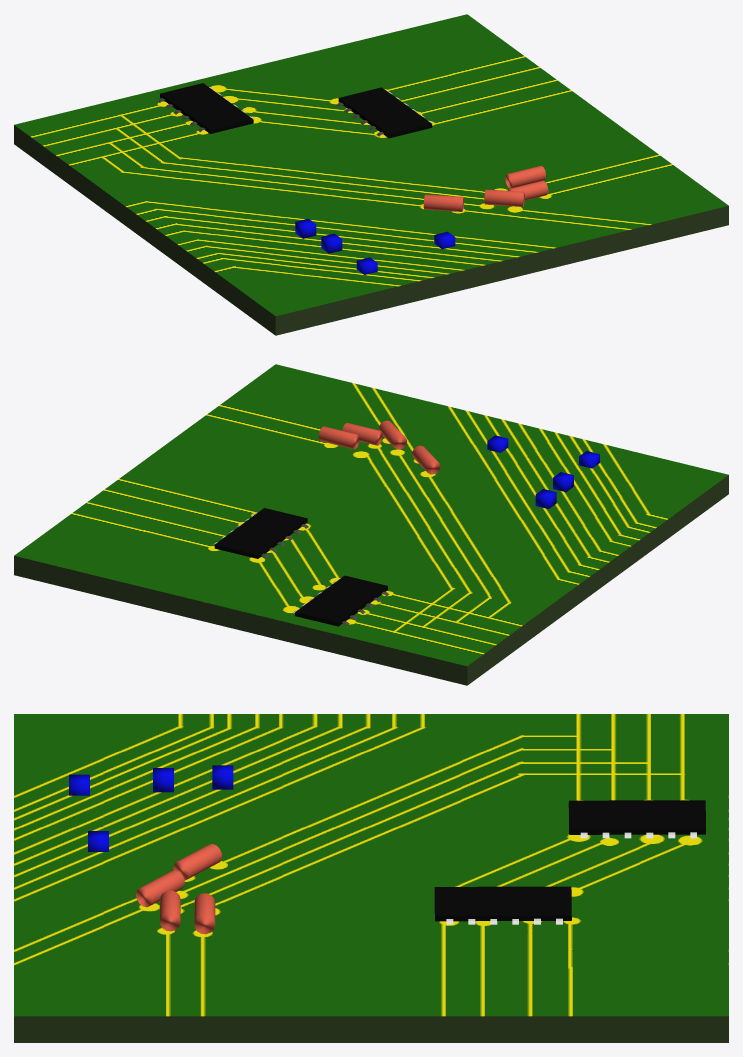
File: advanced_circuit.fbx
The picture shows the model from 3 angles, top to bottom: view 1: azimuth 30°, elevation 25°; view 2: azimuth 150°, elevation 25°; view 3: azimuth 270°, elevation 25°; orthographic projection. The views are drawn at different scales.
Visible parts, largest first — view 1: Plane, Plane.001, Plane.002, Cylinder.002, Cylinder.003, Cylinder.001; view 2: Plane, Plane.002, Plane.001, Cylinder.001, Cylinder; view 3: Plane, Plane.002, Plane.001, Cylinder.003, Cylinder.002, Cylinder.001, Cylinder, Cube.004.
Boxes of the visible parts, box(x1,y1,x2,y2) form: Plane: box(14, 14, 728, 335); Plane.001: box(338, 87, 432, 138); Plane.002: box(160, 83, 253, 133); Cylinder.002: box(484, 189, 524, 206); Cylinder.003: box(423, 194, 463, 211); Cylinder.001: box(505, 166, 545, 188); Plane: box(14, 364, 728, 685); Plane.002: box(295, 575, 387, 626); Plane.001: box(214, 508, 307, 558); Cylinder.001: box(318, 426, 359, 449); Cylinder: box(342, 422, 382, 445); Plane: box(14, 714, 728, 1042); Plane.002: box(568, 800, 705, 834); Plane.001: box(434, 886, 571, 921); Cylinder.003: box(173, 844, 221, 880); Cylinder.002: box(136, 870, 184, 907); Cylinder.001: box(194, 893, 215, 934); Cylinder: box(160, 890, 180, 931); Cube.004: box(212, 765, 233, 789).
Bounding box in the file's own units: 34.08 × 2.61 × 34.08.
Materials: 6 (1 with a texture image).
